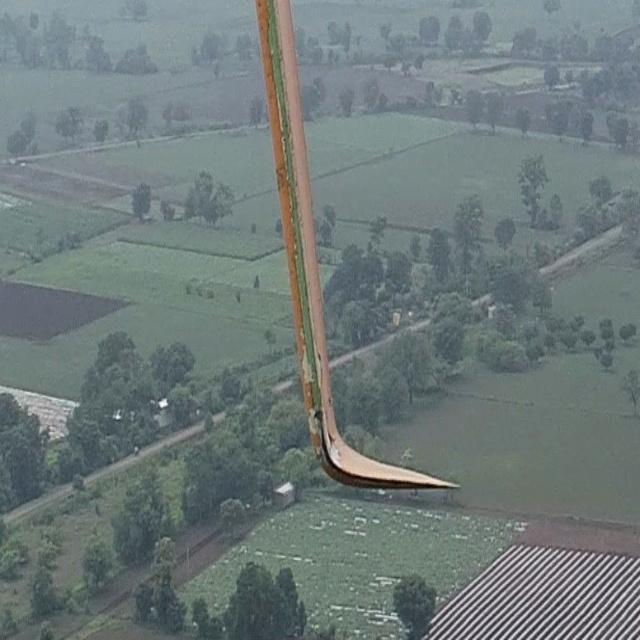EROSION: (300, 347, 341, 473), (279, 124, 306, 253), (262, 5, 286, 101), (291, 255, 316, 342)
